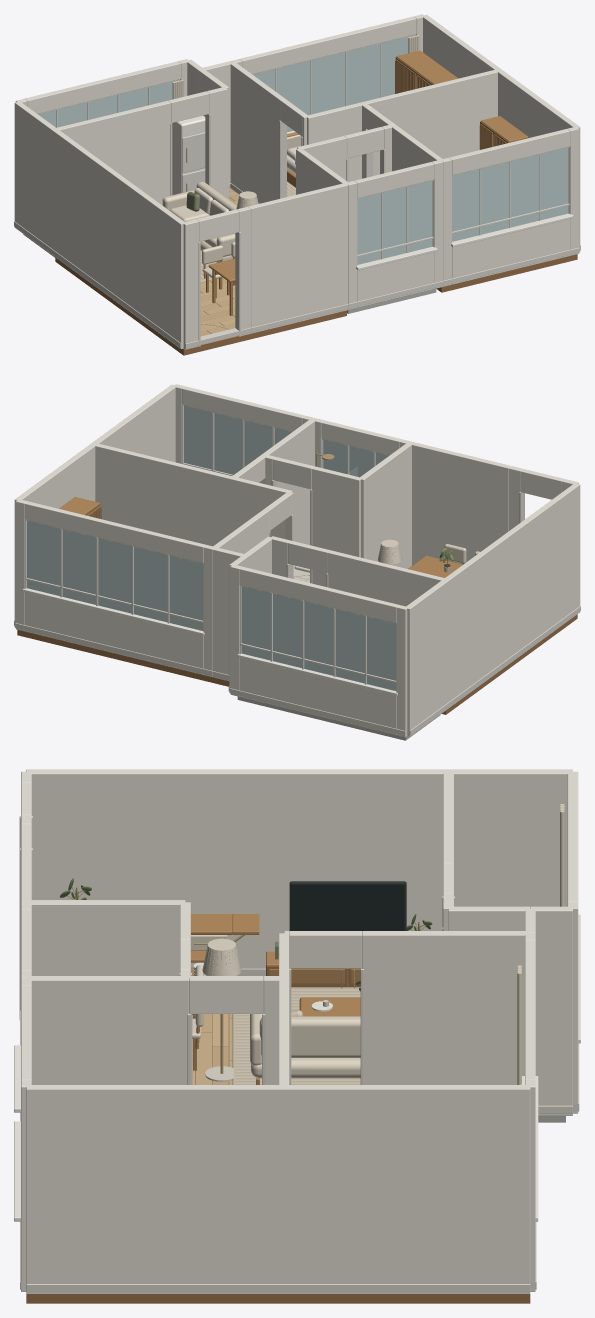
The model's file is new-home-a.glb.
3 views of the same model, one above another, from view 1: azimuth 30°, elevation 25°; view 2: azimuth 150°, elevation 25°; view 3: azimuth 270°, elevation 25° (orthographic). The views are drawn at different scales.
Visible parts, largest first — view 1: Plaster wall (×28), Pale glazing (×4), Skirting board (×5), Floor underlay (×2), Carcass (×2), Stone window sill (×2), Refrigerator, Door jamb (×2), Refrigerator door, Oak door panel; view 2: Plaster wall (×29), Pale glazing (×4), Skirting board (×3), Floor underlay (×2), Stone window sill (×2), Solid oak tabletop, Pleated shade, Window rail; view 3: Plaster wall (×20), Television screen, Floor underlay (×2), Skirting board, Soft back, Bound wool rug, Sofa upholstered base, Pleated shade, Coffee tabletop, Cart top, Oak door panel, Television frame (+1 smaller).
Boxes of the visible parts, x1=… form: Plaster wall (×28): x1=14, y1=14, x2=580, y2=349; Pale glazing (×4): x1=38, y1=35, x2=568, y2=264; Skirting board (×5): x1=14, y1=221, x2=579, y2=348; Floor underlay (×2): x1=135, y1=254, x2=577, y2=355; Carcass (×2): x1=396, y1=50, x2=528, y2=142; Stone window sill (×2): x1=356, y1=213, x2=573, y2=270; Refrigerator: x1=172, y1=115, x2=205, y2=194; Door jamb (×2): x1=235, y1=120, x2=286, y2=336; Refrigerator door: x1=182, y1=132, x2=205, y2=172; Oak door panel: x1=395, y1=59, x2=415, y2=93; Plaster wall (×29): x1=14, y1=384, x2=580, y2=737; Pale glazing (×4): x1=27, y1=406, x2=396, y2=690; Skirting board (×3): x1=15, y1=606, x2=580, y2=735; Floor underlay (×2): x1=17, y1=629, x2=440, y2=740; Stone window sill (×2): x1=22, y1=588, x2=397, y2=695; Solid oak tabletop: x1=408, y1=555, x2=462, y2=577; Pleated shade: x1=378, y1=539, x2=401, y2=564; Window rail: x1=26, y1=578, x2=203, y2=622; Plaster wall (×20): x1=21, y1=769, x2=578, y2=1294; Television screen: x1=291, y1=884, x2=404, y2=930; Floor underlay (×2): x1=26, y1=1294, x2=530, y2=1303; Skirting board: x1=26, y1=1284, x2=530, y2=1292; Soft back: x1=259, y1=1016, x2=360, y2=1057; Bound wool rug: x1=232, y1=987, x2=360, y2=1084; Sofa upholstered base: x1=251, y1=1058, x2=360, y2=1078; Pleated shade: x1=202, y1=938, x2=241, y2=975; Coffee tabletop: x1=299, y1=997, x2=360, y2=1016; Cart top: x1=191, y1=914, x2=232, y2=934; Oak door panel: x1=269, y1=969, x2=344, y2=983; Television frame: x1=289, y1=881, x2=406, y2=930.
Size of the model in its own units: 8.54 by 2.69 by 6.38.
